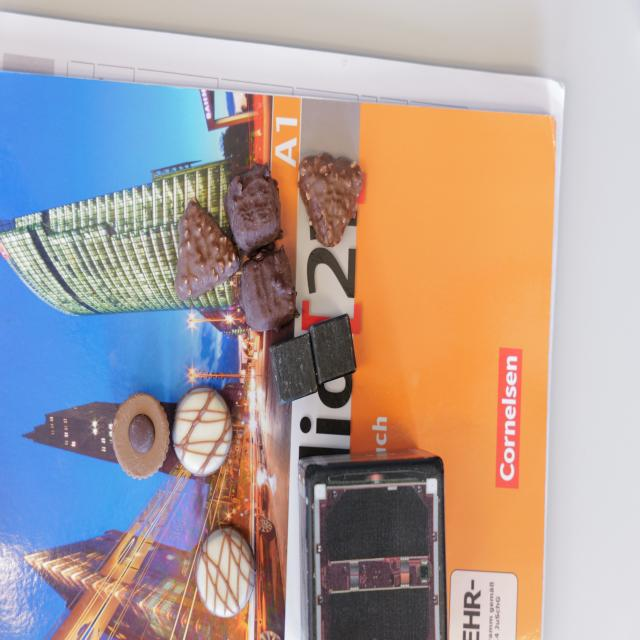Creme_brulee: (197, 525, 256, 617), (175, 386, 232, 478)
Noblesse: (111, 392, 170, 481)
Tentation_noir: (240, 250, 301, 335), (227, 162, 282, 255)
Triangolo: (175, 198, 237, 302), (298, 153, 364, 248)
